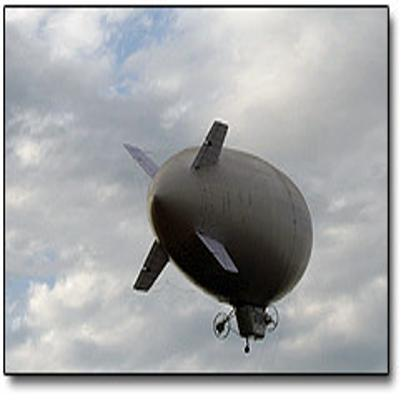Airship: (117, 121, 312, 363)
